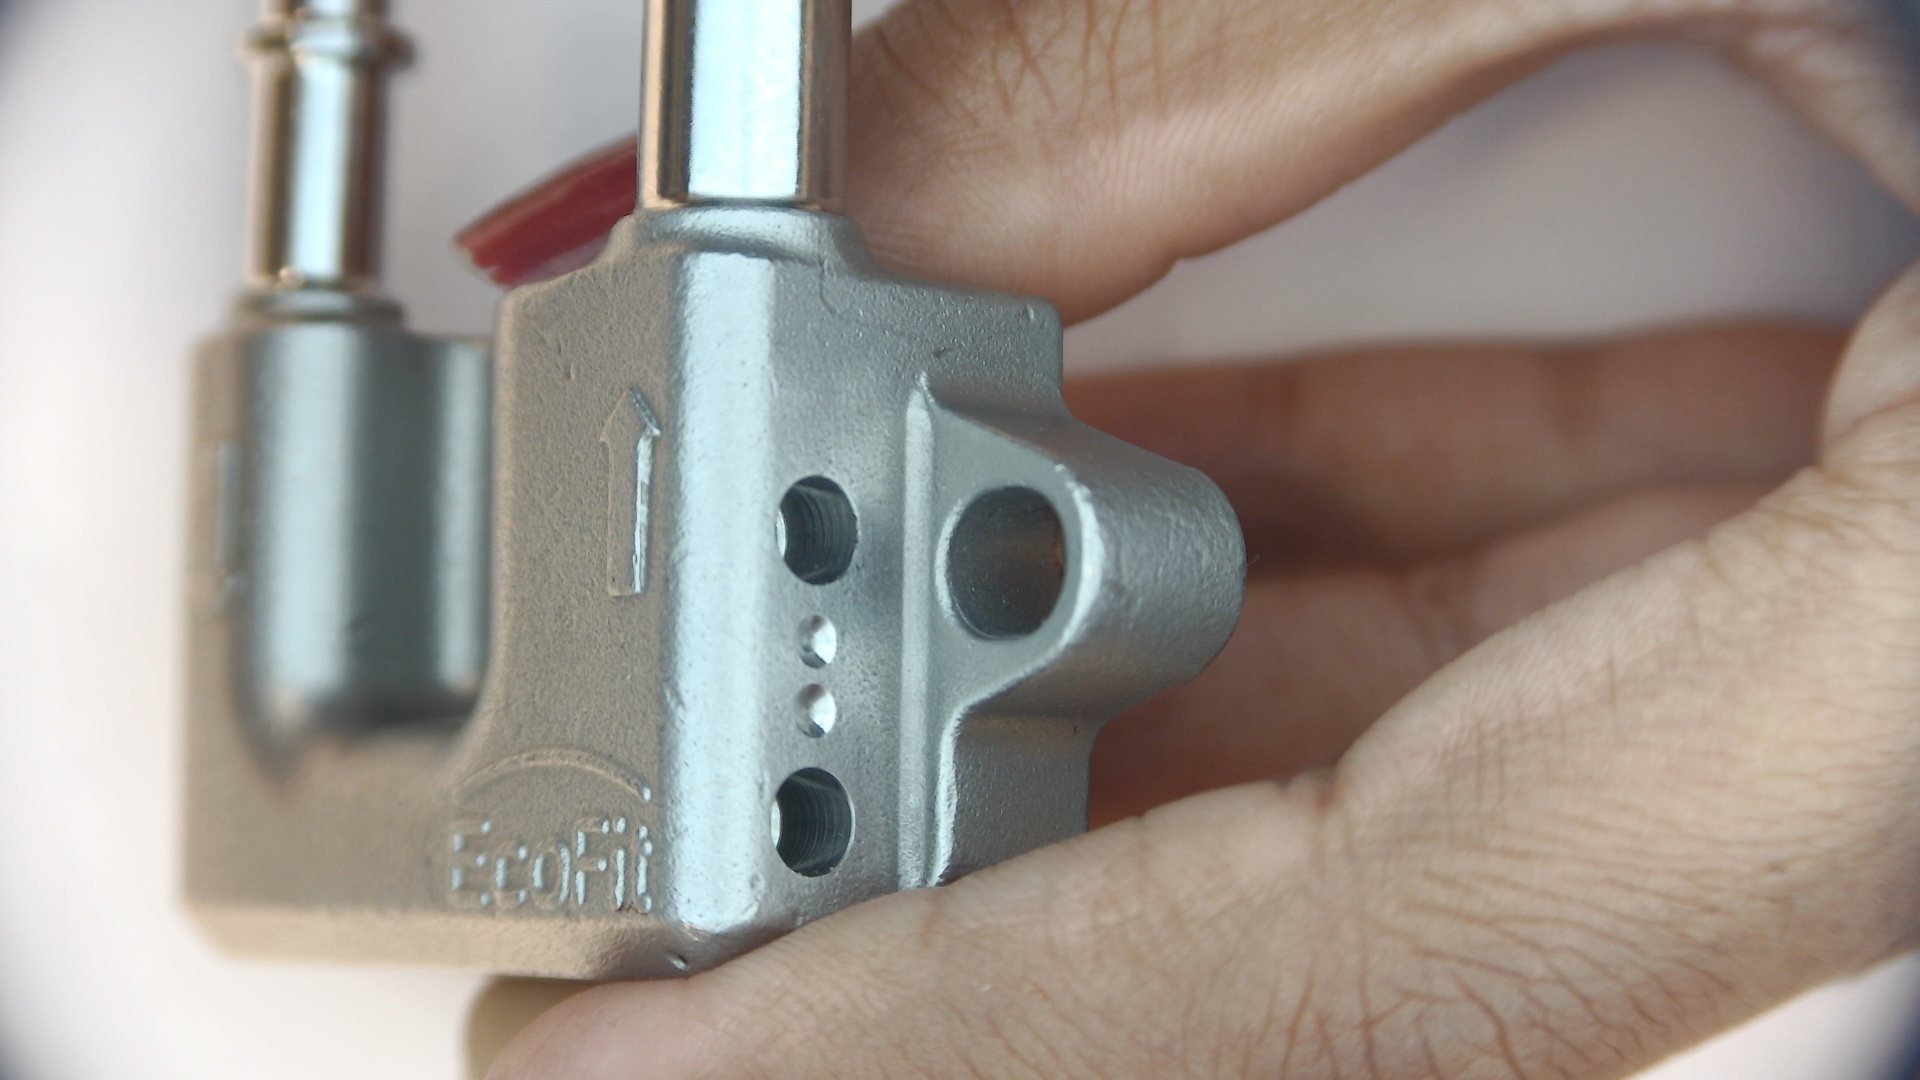thread_presence: (1563, 944, 1718, 1080)
